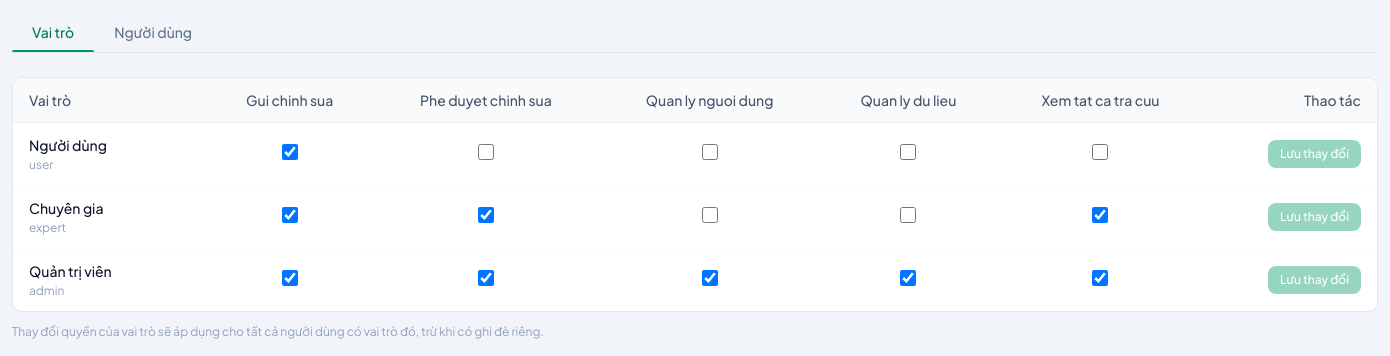
Test case: PermissionManager › switches to users tab and shows search input
Expected: the column heading "Gui chinh sua" is shown, [207,78,373,122]
Click the "Nguoi dung" tab button using data-testid
What coordinates should you click on to do the following:
click the button with test id "tab-users"
I would click on:
 (153, 32)
Its box is [94,12,212,52].
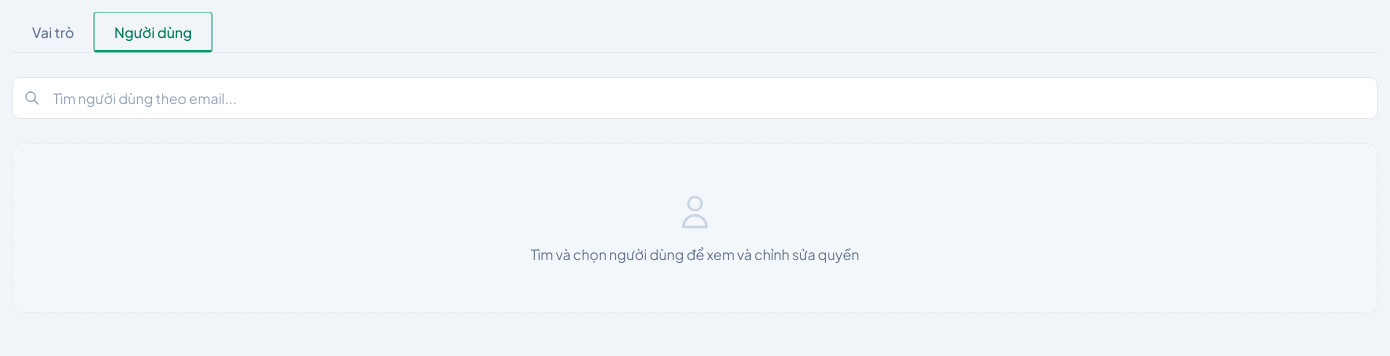
Expected: the search field with placeholder "Tìm người dùng theo email..." is shown, [12,77,1378,119]
